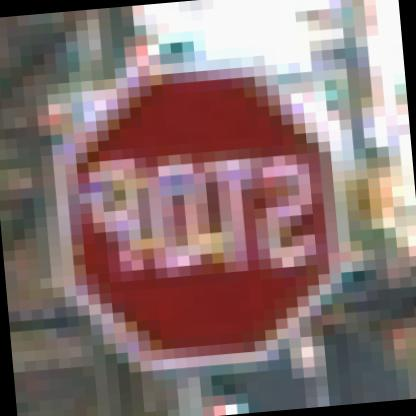stop: (22, 45, 375, 389)
